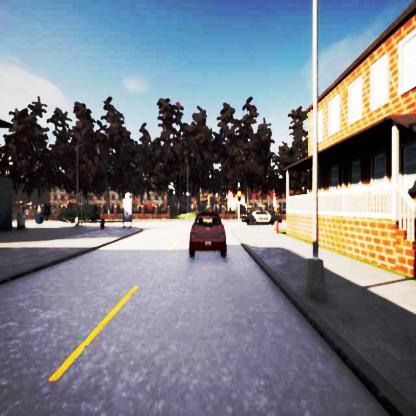vehicle: (188, 212, 225, 256), (251, 209, 272, 224)
